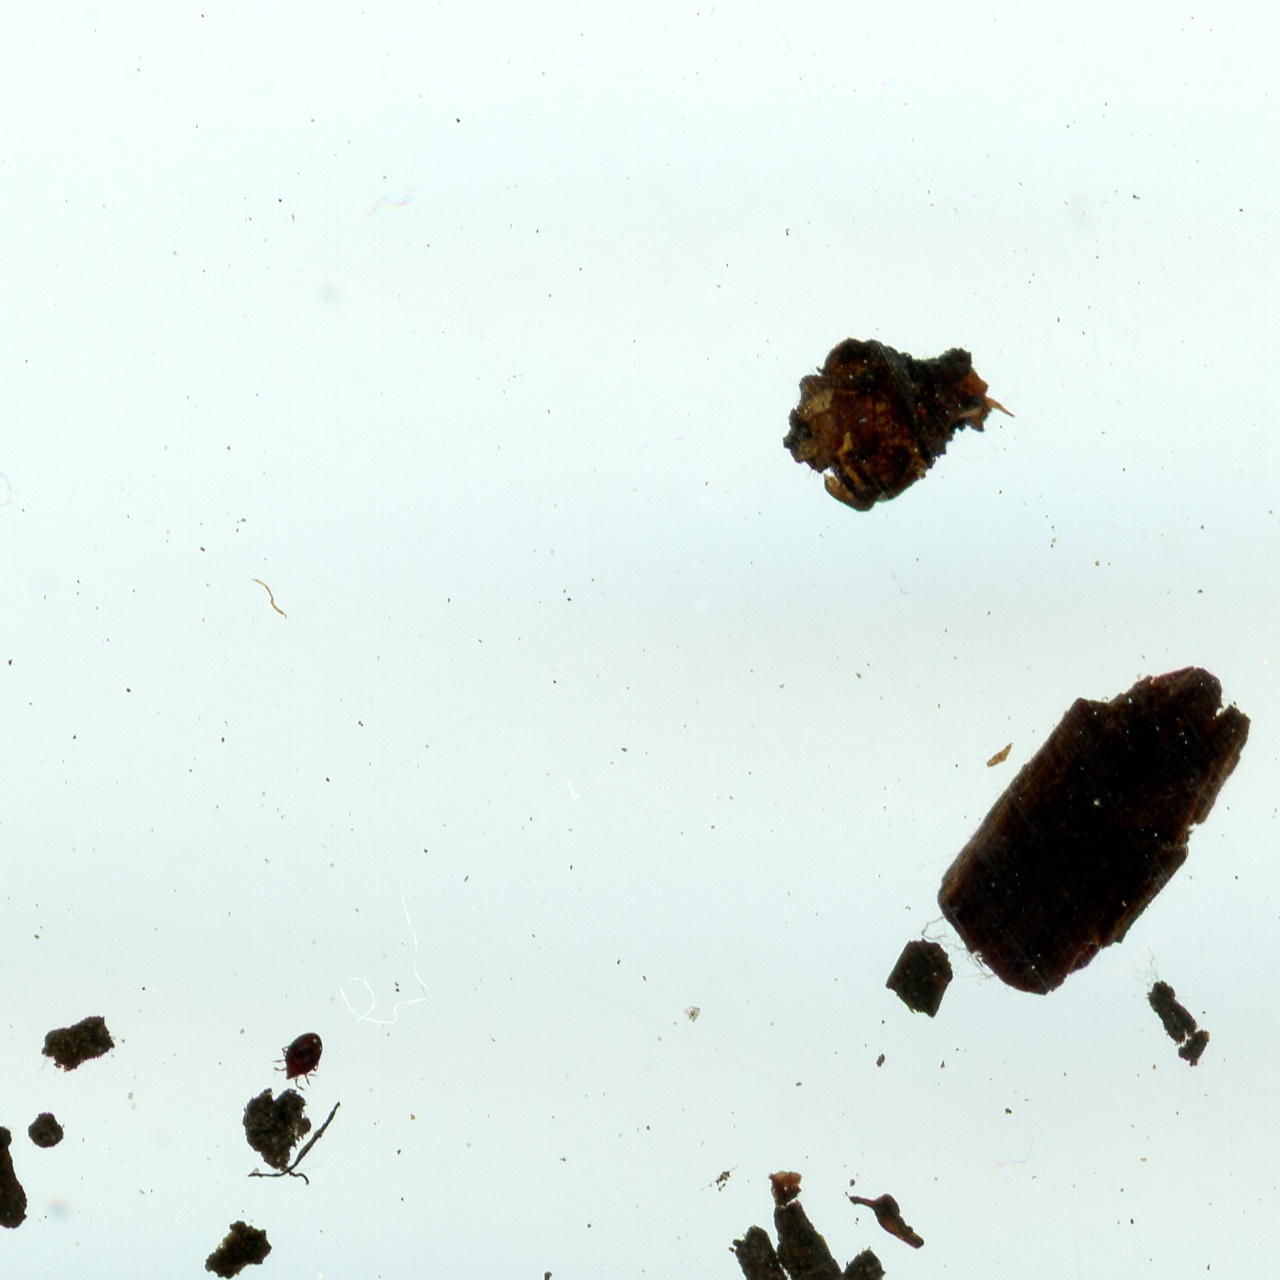arthropod: (270, 1029, 327, 1094)
